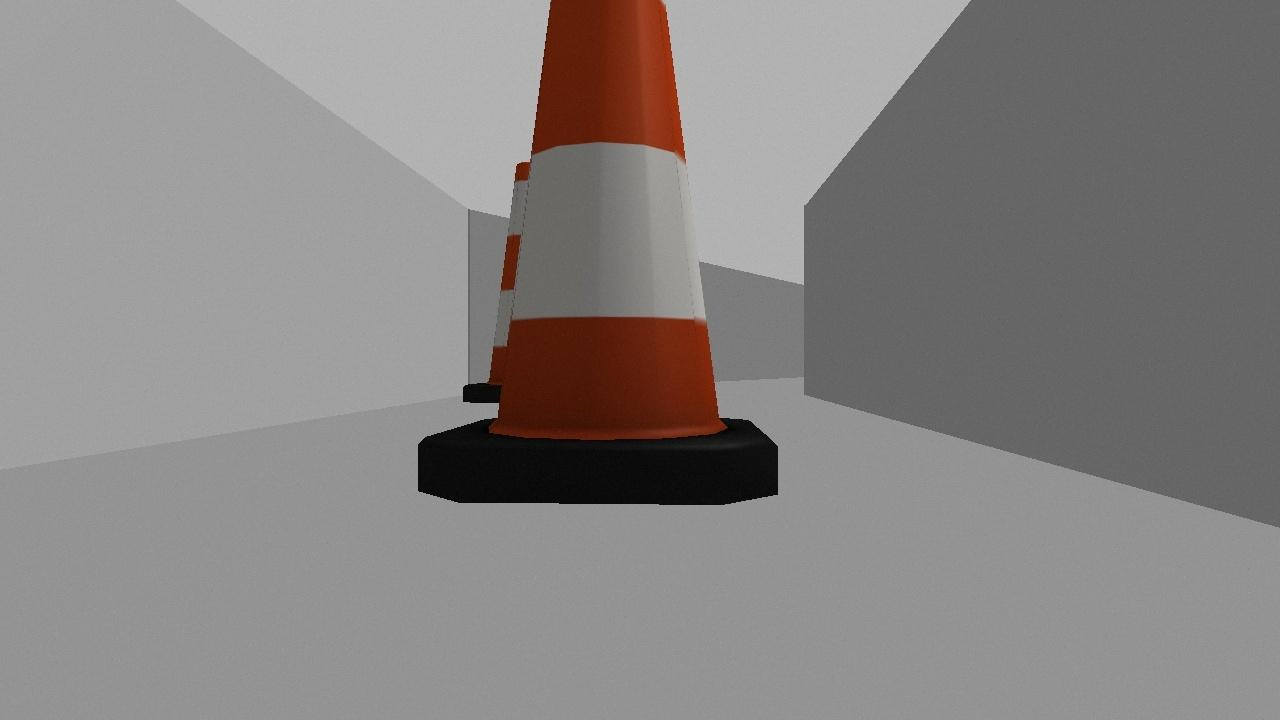cone_barrel: (377, 0, 815, 519), (455, 146, 571, 408)
